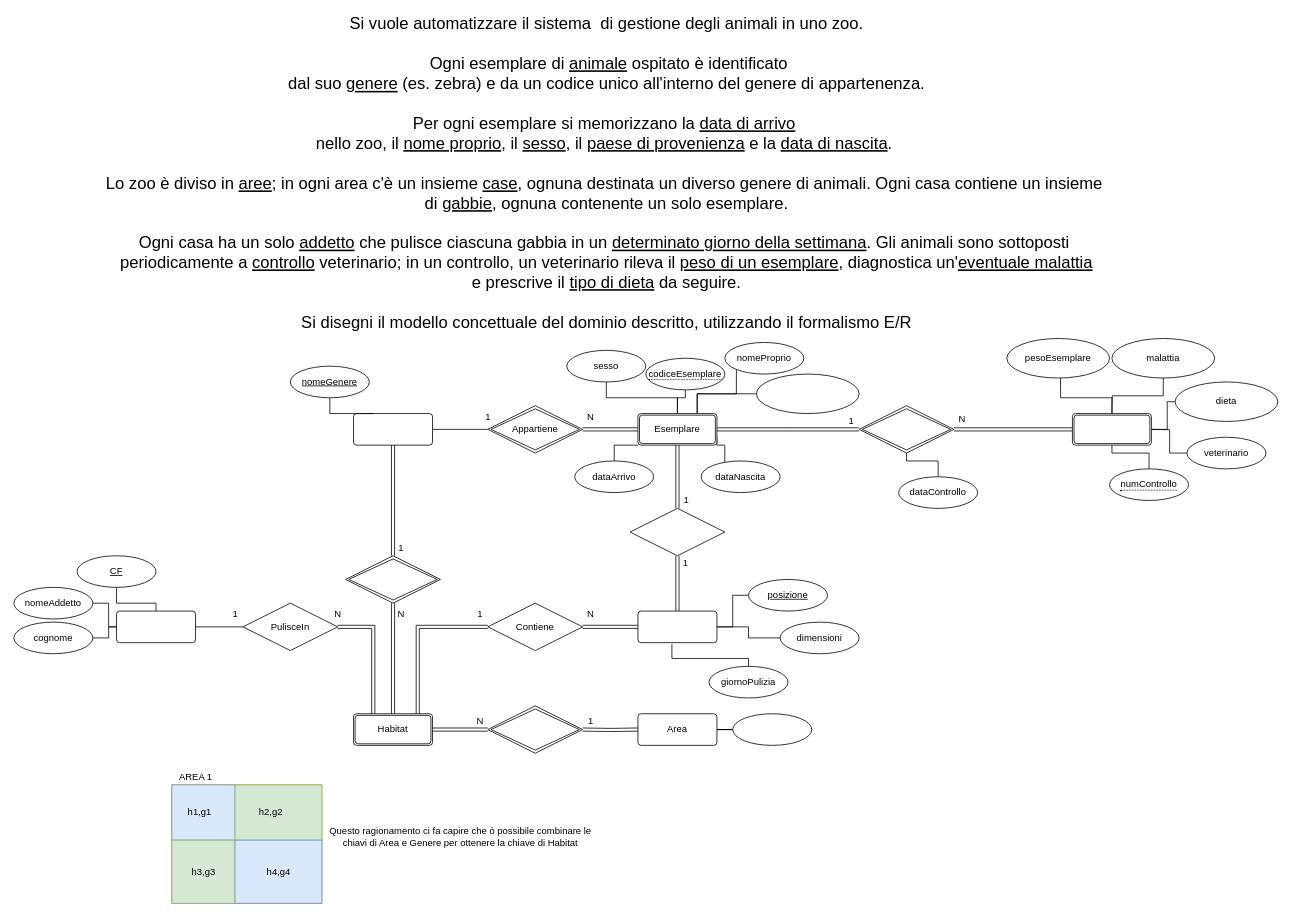
Some shapes in this 1292 by 917 pixel diagram are drawn without their labels. The shapes that lost their labels are listed below. From the top down, each one's centre as x and y in pixels, then its label:
At (x=807, y=393): "paeseDiProvenienza".
At (x=393, y=429): "Genere".
At (x=906, y=429): "EffettuatoSu".
At (x=1111, y=429): "Controllo".
At (x=677, y=532): "Detiene".
At (x=392, y=579): "DestinatoA".
At (x=156, y=626): "AddettoPulizie".
At (x=677, y=626): "Gabbia".
At (x=535, y=729): "Corrisponde".
At (x=772, y=729): "codArea".
